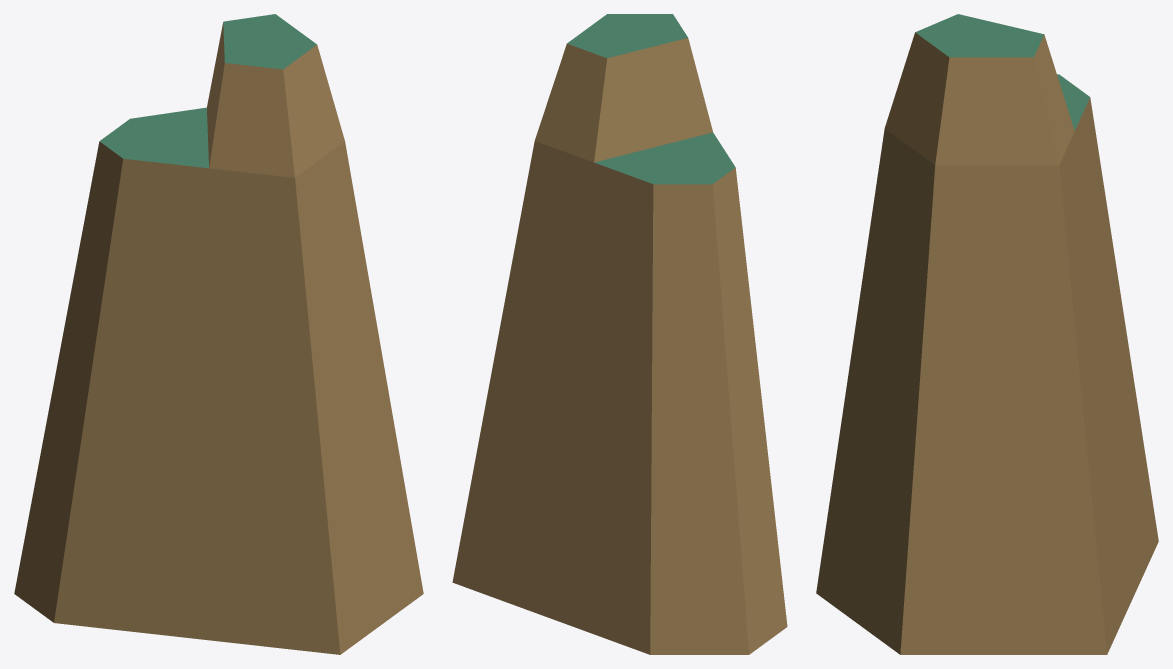
File: naturePack_036.fbx
3 views of the same model, side by side, from view 1: azimuth 30°, elevation 25°; view 2: azimuth 150°, elevation 25°; view 3: azimuth 270°, elevation 25° (orthographic). The views are drawn at different scales.
Parts seen in each view (by area): view 1: Mesh1_Group1 Model; view 2: Mesh1_Group1 Model; view 3: Mesh1_Group1 Model.
Part boxes in pixels (<box>): Mesh1_Group1 Model: <box>14,14,423,654</box>; Mesh1_Group1 Model: <box>452,14,787,654</box>; Mesh1_Group1 Model: <box>816,14,1158,654</box>.
Bounding box in the file's own units: 1.26 × 2.17 × 1.21.
